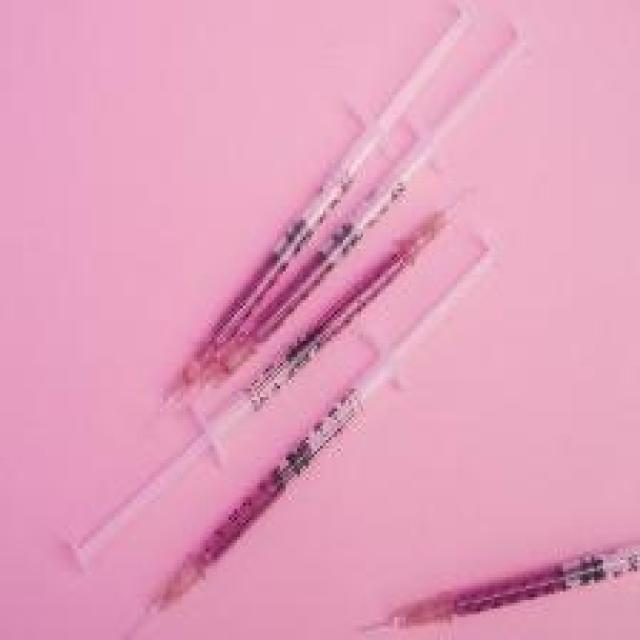syringe: (110, 100, 496, 558), (327, 531, 640, 640)
